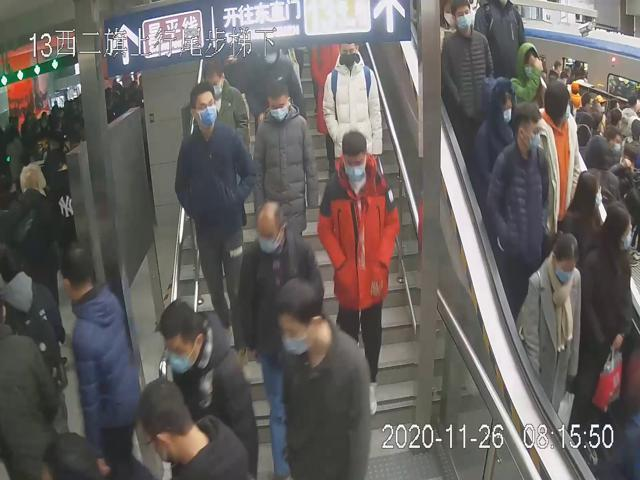person: (233, 198, 324, 480), (316, 131, 400, 420), (172, 81, 255, 354), (272, 272, 377, 480), (517, 226, 580, 435), (251, 77, 316, 261), (484, 104, 552, 279), (322, 39, 384, 202), (440, 2, 491, 129), (196, 55, 248, 160)
